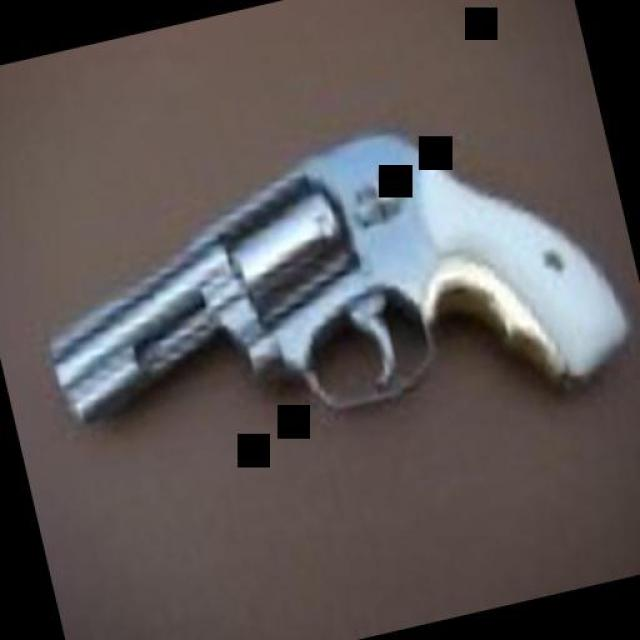gun: (17, 85, 640, 535)
